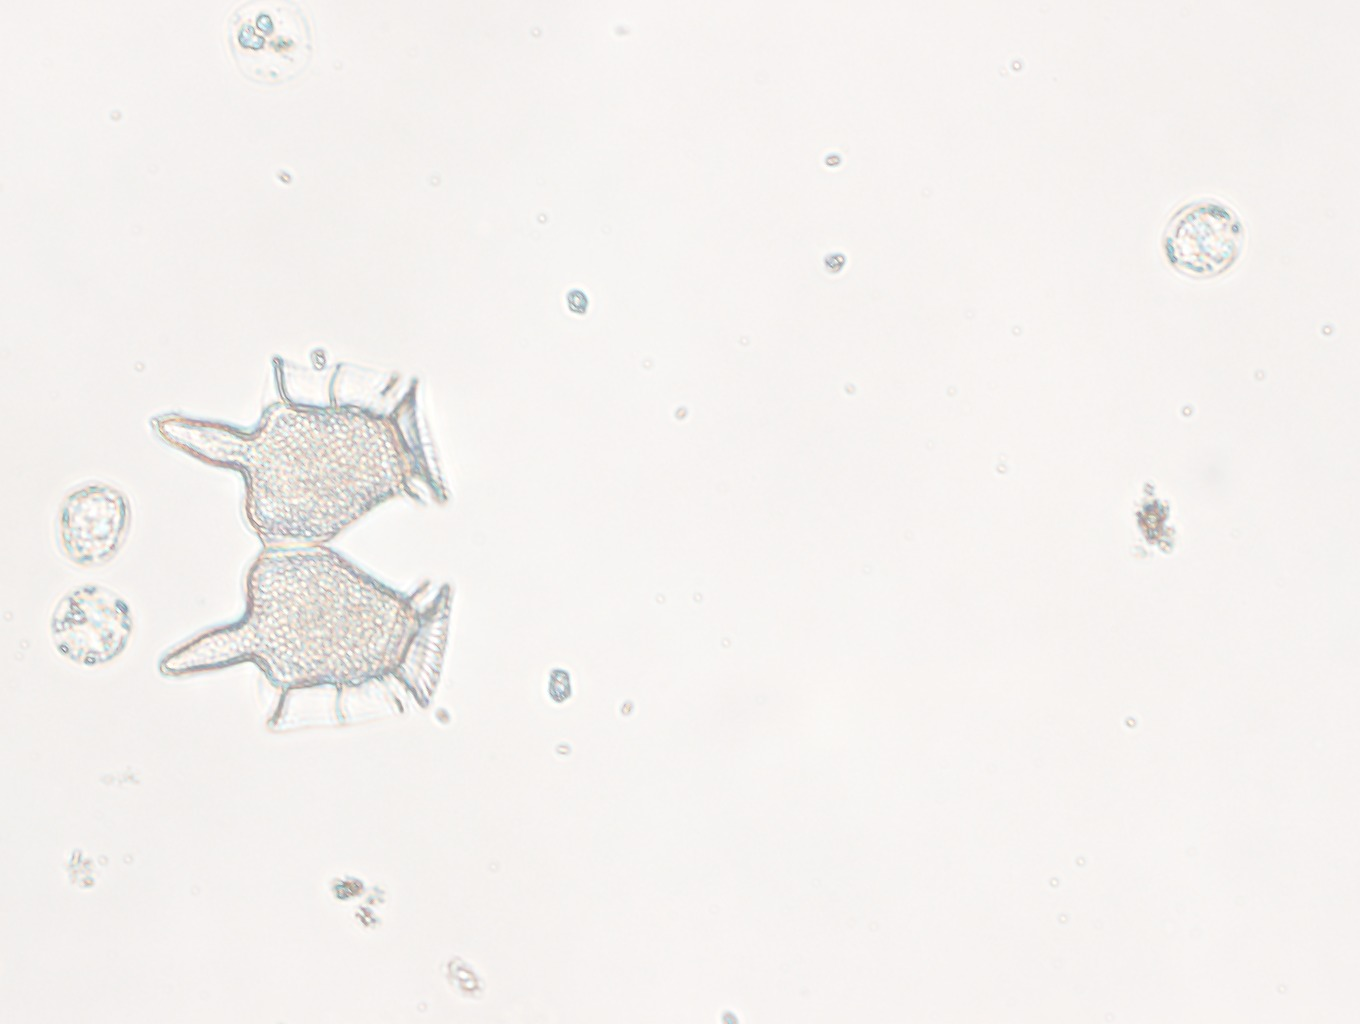dinophysis caudata: (127, 349, 467, 759)
